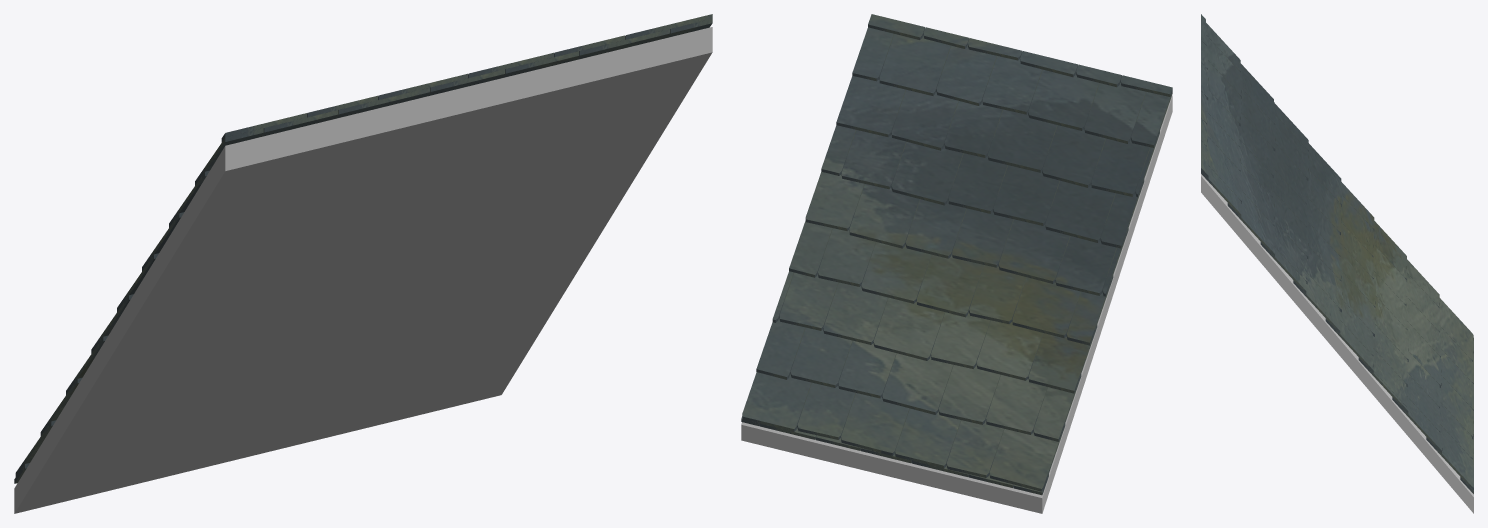
File: CM_SlateRoofKit01_SecondaryGablePanel2m_52p43.fbx
The picture shows the model from 3 angles, left to right: view 1: azimuth 30°, elevation 25°; view 2: azimuth 150°, elevation 25°; view 3: azimuth 270°, elevation 25°; orthographic projection. The views are drawn at different scales.
Visible parts, largest first — view 1: CM_SlateRoofKit01_SecondaryGablePanel2m_52p43_Underlay, CM_SlateRoofKit01_SecondaryGablePanel2m_52p43_Slate; view 2: CM_SlateRoofKit01_SecondaryGablePanel2m_52p43_Slate, CM_SlateRoofKit01_SecondaryGablePanel2m_52p43_Underlay; view 3: CM_SlateRoofKit01_SecondaryGablePanel2m_52p43_Slate, CM_SlateRoofKit01_SecondaryGablePanel2m_52p43_Underlay.
Part boxes in pixels (x1=…): CM_SlateRoofKit01_SecondaryGablePanel2m_52p43_Underlay: x1=14, y1=27, x2=712, y2=513; CM_SlateRoofKit01_SecondaryGablePanel2m_52p43_Slate: x1=14, y1=14, x2=712, y2=483; CM_SlateRoofKit01_SecondaryGablePanel2m_52p43_Slate: x1=741, y1=14, x2=1172, y2=495; CM_SlateRoofKit01_SecondaryGablePanel2m_52p43_Underlay: x1=741, y1=95, x2=1172, y2=513; CM_SlateRoofKit01_SecondaryGablePanel2m_52p43_Slate: x1=1201, y1=14, x2=1473, y2=493; CM_SlateRoofKit01_SecondaryGablePanel2m_52p43_Underlay: x1=1201, y1=174, x2=1473, y2=513.
Bounding box in the file's own units: 2 × 2.1 × 1.5.
